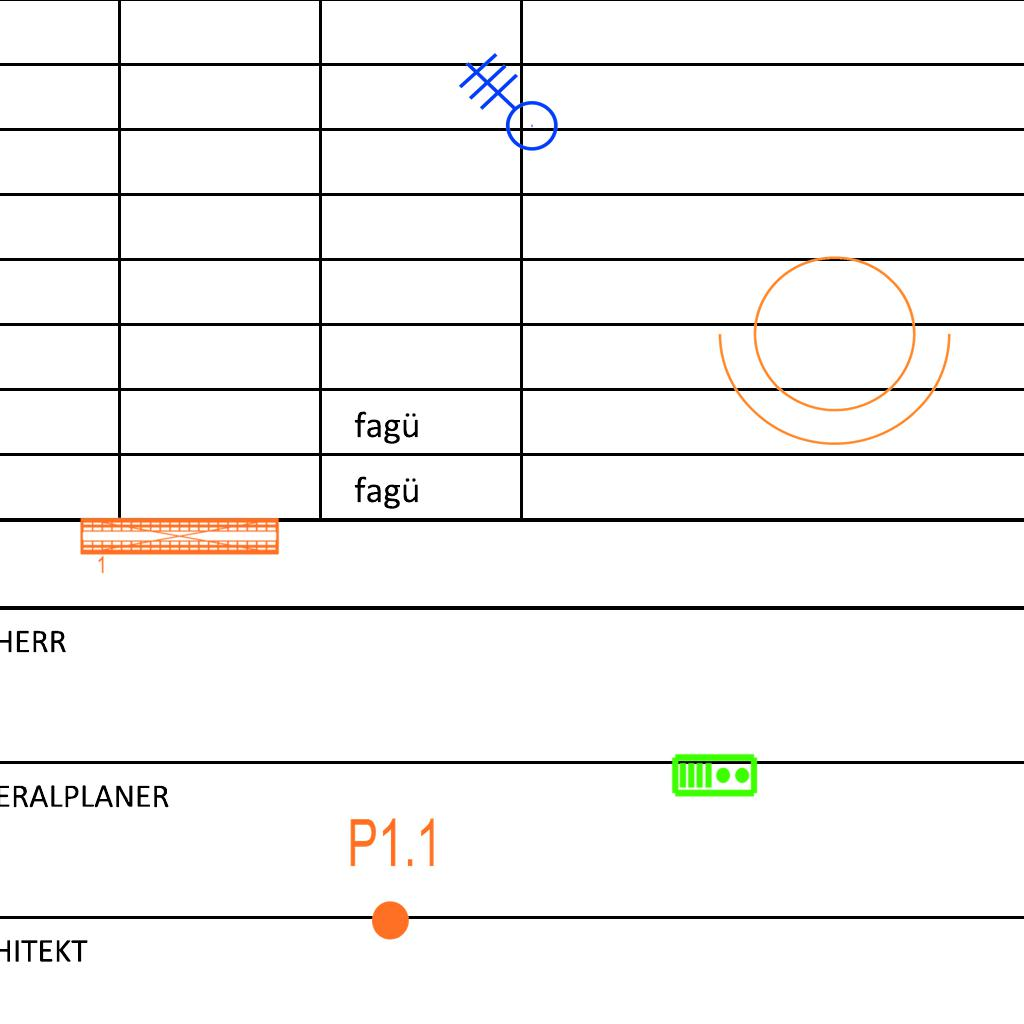Buero_Pendelleuchten_LED: (77, 513, 283, 578)
Downlight_LED_Einbauleuchten_Flur_2: (347, 815, 440, 943)
Elektroanschluss_allgemein_400V_Geraeteanschlussdose_400V: (446, 52, 559, 168)
Gegensprechanlage_mit_Video: (671, 751, 759, 798)
Scheinwerfer_fuer_Alarmbeleuchtung: (709, 231, 973, 456)
